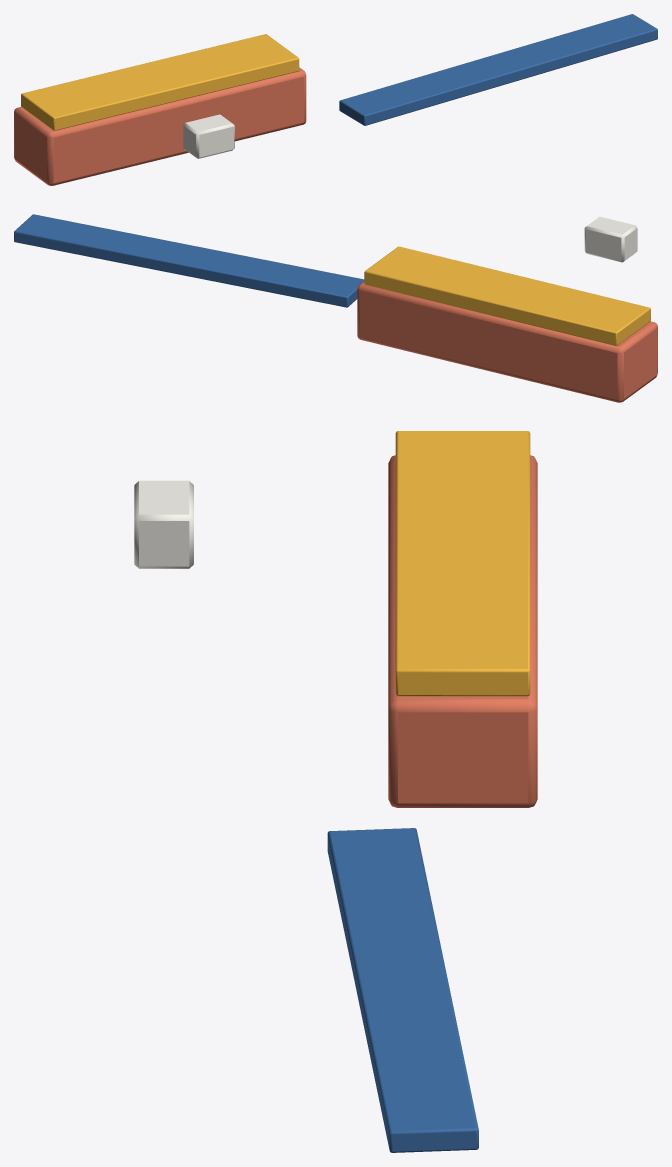
File: HopBut_ThuocKe.glb
3 views of the same model, one above another, from view 1: azimuth 30°, elevation 25°; view 2: azimuth 150°, elevation 25°; view 3: azimuth 270°, elevation 25° (orthographic). The views are drawn at different scales.
Visible parts, largest first — view 1: HopBut_ThuocKe; view 2: HopBut_ThuocKe; view 3: HopBut_ThuocKe.
Part boxes in pixels (x1=…): HopBut_ThuocKe: x1=14, y1=14, x2=657, y2=185; HopBut_ThuocKe: x1=14, y1=214, x2=657, y2=402; HopBut_ThuocKe: x1=134, y1=431, x2=537, y2=1152.
Size of the model in its own units: 0.4708 by 0.06 by 0.135.
